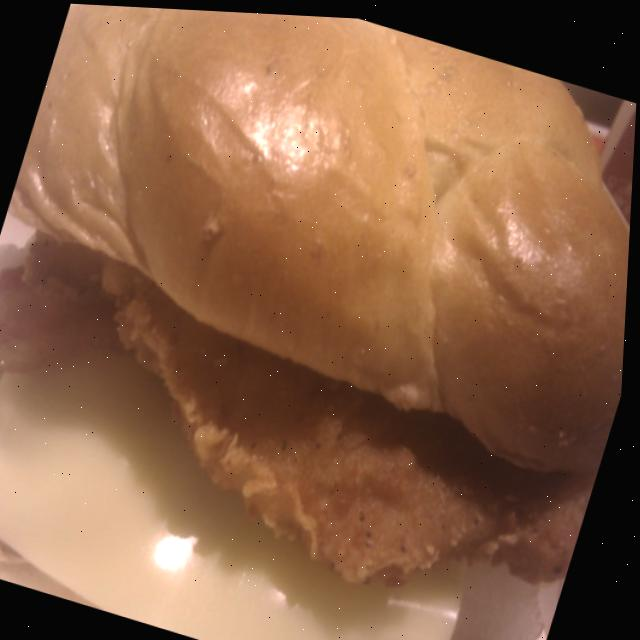汉堡快餐: (0, 0, 640, 631)
